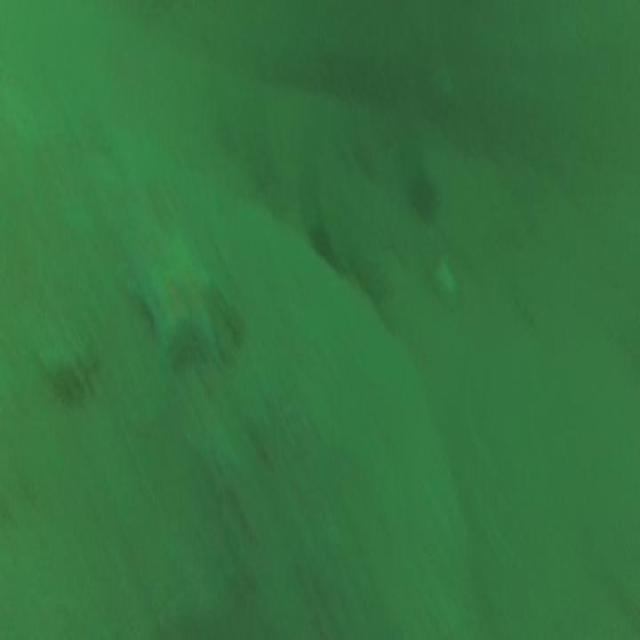holothurian: (37, 338, 103, 402)
starfish: (128, 234, 226, 376)
